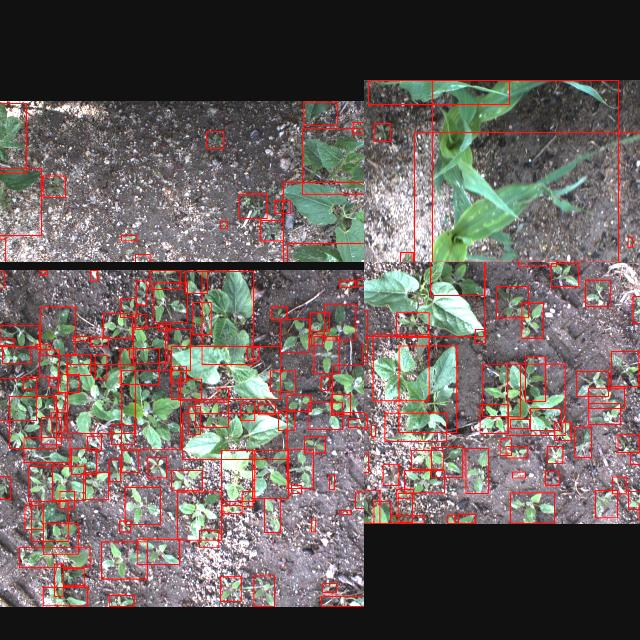crop: (432, 80, 618, 262), (413, 131, 640, 262), (364, 262, 484, 336), (282, 181, 364, 262), (170, 346, 280, 400), (398, 346, 456, 432), (201, 270, 253, 364), (182, 413, 286, 459), (301, 128, 364, 194), (372, 334, 428, 401), (368, 80, 508, 104), (0, 168, 40, 236), (384, 412, 446, 442), (220, 450, 254, 502), (0, 103, 25, 173), (286, 243, 364, 262), (303, 101, 337, 125)
weed: (120, 370, 180, 450), (67, 364, 135, 434), (508, 364, 564, 436), (8, 396, 56, 448), (177, 492, 221, 540), (482, 364, 520, 416), (429, 262, 484, 295), (101, 542, 147, 580), (252, 450, 288, 498), (40, 306, 74, 356), (0, 378, 36, 420), (332, 365, 364, 412), (31, 502, 68, 542), (119, 348, 159, 384), (19, 548, 90, 568), (510, 492, 554, 524), (153, 282, 187, 322), (124, 488, 160, 524), (132, 327, 168, 363), (323, 304, 355, 340), (23, 438, 69, 462), (52, 466, 84, 500), (42, 524, 78, 554), (164, 328, 190, 369), (496, 286, 528, 318), (286, 449, 312, 488), (465, 448, 487, 494), (137, 540, 179, 564), (306, 402, 342, 430), (430, 448, 462, 478), (280, 318, 308, 352), (610, 352, 638, 386), (525, 356, 545, 402), (314, 336, 338, 374), (478, 404, 508, 434), (404, 471, 444, 493), (28, 466, 52, 502), (396, 312, 428, 338), (42, 588, 88, 606), (0, 325, 39, 346), (195, 402, 228, 426), (102, 312, 132, 338), (576, 372, 608, 396), (82, 472, 108, 500), (588, 388, 624, 408), (522, 302, 542, 338), (70, 448, 96, 474), (584, 280, 610, 306), (238, 194, 266, 218), (252, 576, 274, 606), (530, 408, 560, 430), (170, 470, 202, 490), (588, 404, 620, 424), (595, 490, 617, 518), (550, 264, 578, 286), (412, 450, 442, 470), (192, 302, 210, 334), (264, 498, 280, 532), (149, 270, 179, 288), (39, 349, 59, 376), (66, 354, 90, 376), (220, 576, 240, 602), (41, 418, 61, 444), (364, 490, 379, 524), (185, 271, 208, 293), (270, 371, 294, 392), (2, 346, 30, 364), (574, 427, 590, 458), (396, 493, 412, 522), (42, 176, 64, 197), (178, 378, 200, 399), (260, 220, 282, 240), (320, 597, 364, 607), (110, 426, 134, 444), (24, 506, 42, 530), (146, 458, 166, 478), (330, 394, 350, 414), (120, 450, 138, 472), (372, 502, 390, 524), (286, 395, 310, 411), (309, 313, 329, 332), (58, 373, 78, 392), (198, 530, 218, 548), (63, 568, 83, 586), (618, 435, 638, 453), (382, 464, 398, 486), (188, 406, 200, 434), (304, 437, 324, 453), (120, 298, 136, 318), (278, 410, 294, 430), (205, 130, 222, 148), (374, 123, 391, 141), (94, 355, 106, 379), (546, 446, 562, 464), (554, 422, 570, 440), (389, 516, 423, 524), (108, 459, 120, 481), (505, 446, 527, 458), (108, 596, 134, 606), (51, 412, 64, 432), (54, 564, 62, 596), (170, 366, 186, 382), (136, 280, 146, 304), (240, 404, 254, 421), (60, 492, 74, 508), (611, 478, 625, 494), (628, 492, 640, 510), (632, 295, 640, 322), (499, 438, 511, 456), (274, 200, 290, 213), (0, 476, 9, 499), (272, 306, 286, 320), (87, 436, 101, 450), (22, 376, 36, 390), (545, 472, 559, 486), (54, 392, 64, 410), (509, 419, 528, 428), (90, 338, 108, 347), (354, 492, 364, 508), (258, 404, 274, 414), (222, 506, 242, 514), (458, 514, 474, 524), (246, 346, 258, 359), (347, 418, 364, 427), (216, 388, 228, 400), (118, 520, 130, 532), (310, 333, 322, 345), (396, 489, 412, 498), (320, 376, 330, 390), (135, 314, 145, 328), (242, 492, 252, 506), (475, 329, 485, 343), (352, 122, 364, 133), (629, 452, 640, 464), (399, 252, 412, 262), (134, 254, 149, 262), (322, 584, 336, 592), (339, 280, 355, 286), (328, 474, 334, 490), (0, 338, 13, 345), (48, 378, 58, 387), (89, 270, 97, 280), (291, 485, 301, 493), (310, 520, 316, 532), (157, 324, 169, 330), (512, 472, 524, 478), (120, 236, 136, 240), (72, 336, 88, 340), (34, 344, 50, 348), (447, 515, 455, 523), (626, 237, 632, 247), (129, 348, 135, 358), (370, 426, 376, 436), (220, 220, 227, 228), (356, 278, 364, 285), (339, 510, 351, 514), (39, 270, 47, 274)
